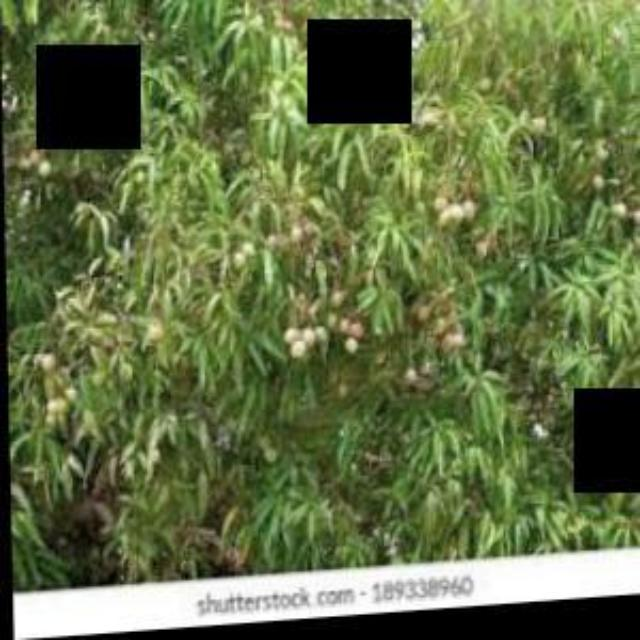tree: (2, 1, 638, 572)
